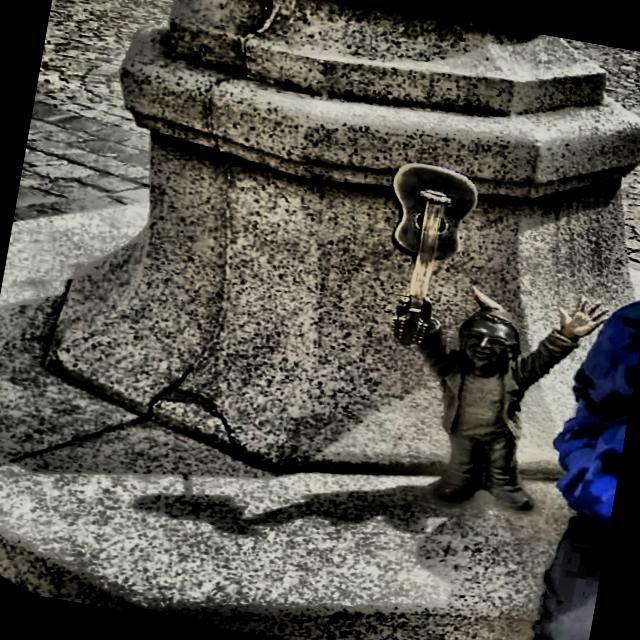Leszko_z_Wroclawia: (391, 163, 611, 512)
